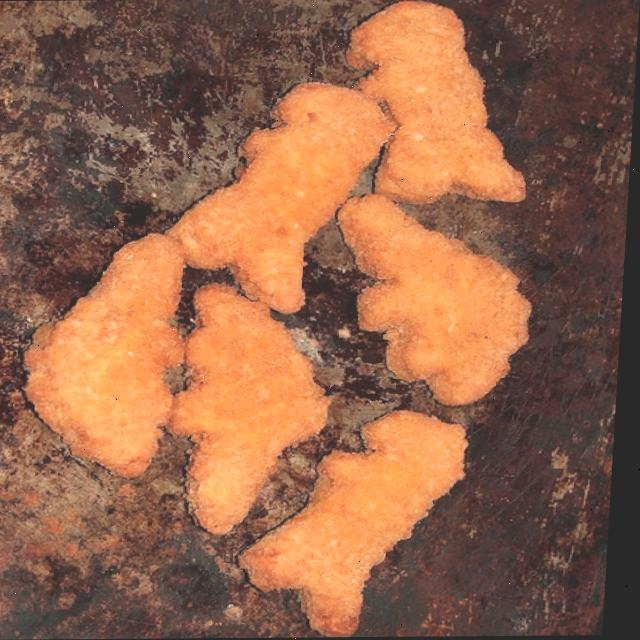鸡肉料理 含炸鸡: (0, 15, 604, 638)
